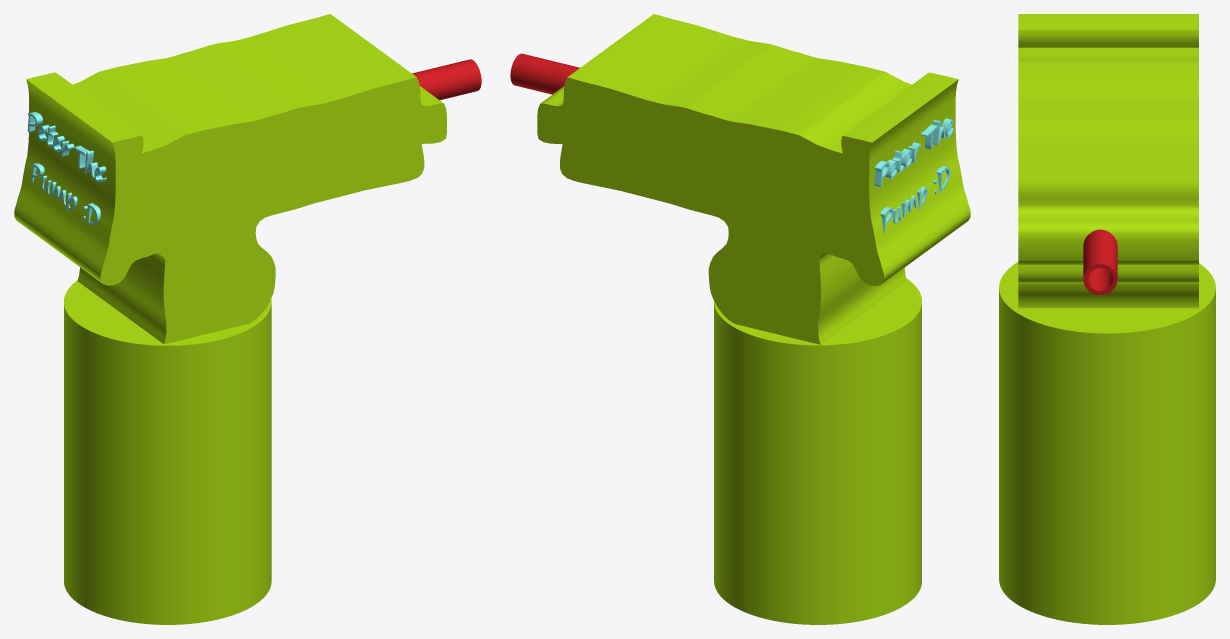
The model's file is Peter Model.fbx.
3 views of the same model, side by side, from view 1: azimuth 30°, elevation 25°; view 2: azimuth 150°, elevation 25°; view 3: azimuth 270°, elevation 25° (orthographic). The views are drawn at different scales.
Visible parts, largest first — view 1: root (×3), node_id62 (×2); view 2: root (×3), node_id62 (×2); view 3: root (×3).
Part boxes in pixels (x1,y1,x2,y2): root (×3): [14, 14, 481, 624]; node_id62 (×2): [27, 112, 106, 224]; root (×3): [510, 14, 970, 624]; node_id62 (×2): [874, 118, 953, 232]; root (×3): [999, 14, 1215, 624].
Bounding box in the file's own units: 0.4502 × 0.5157 × 0.1967.
